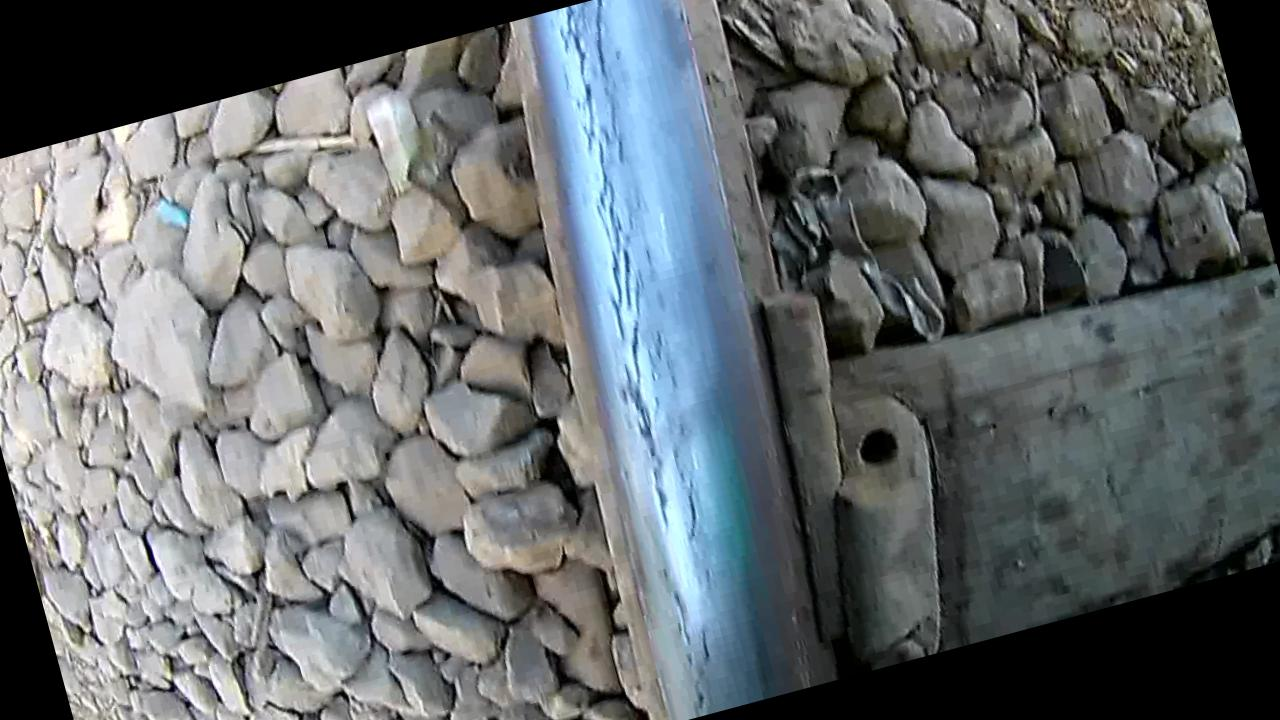normal_track: (507, 0, 790, 718)
